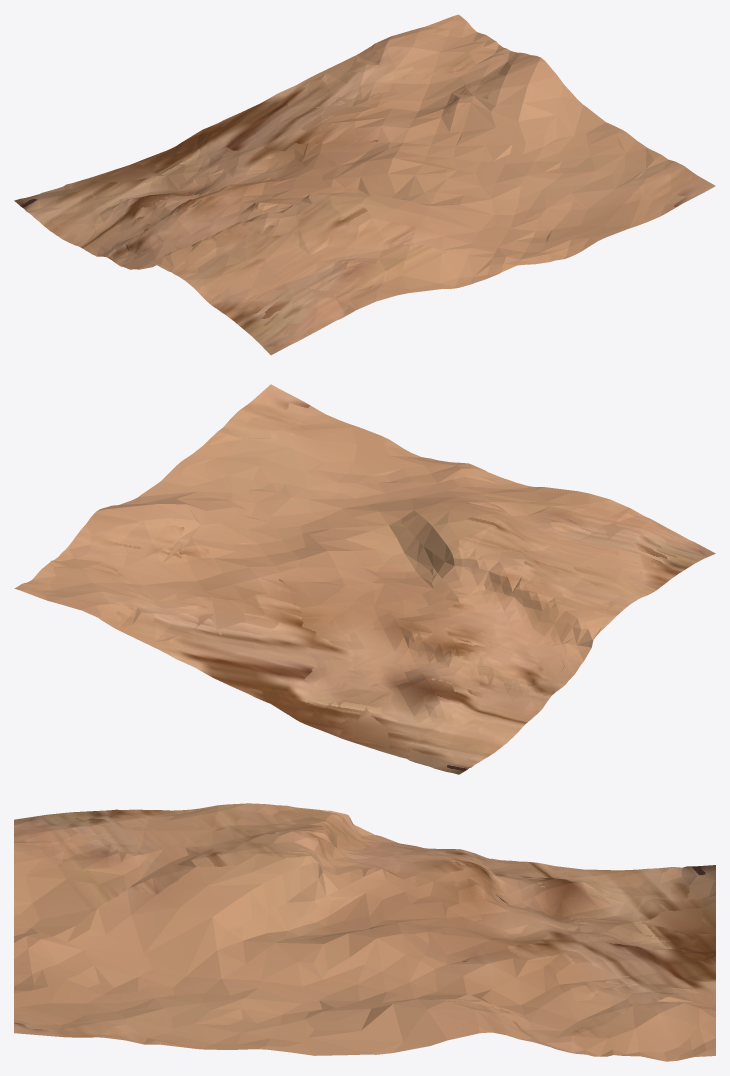
3 renders of one model, top to bottom at view 1: azimuth 30°, elevation 25°; view 2: azimuth 150°, elevation 25°; view 3: azimuth 270°, elevation 25°, orthographic. The views are drawn at different scales.
Size of the model in its own units: 1.04 by 0.2229 by 1.04.
2 materials, 2 textured.
